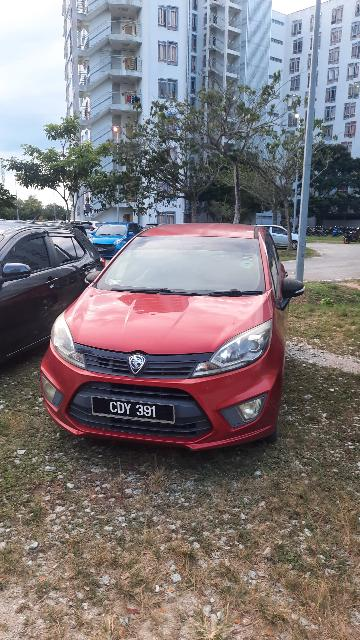License_Plate: (90, 393, 181, 427)
car: (38, 218, 310, 465)
